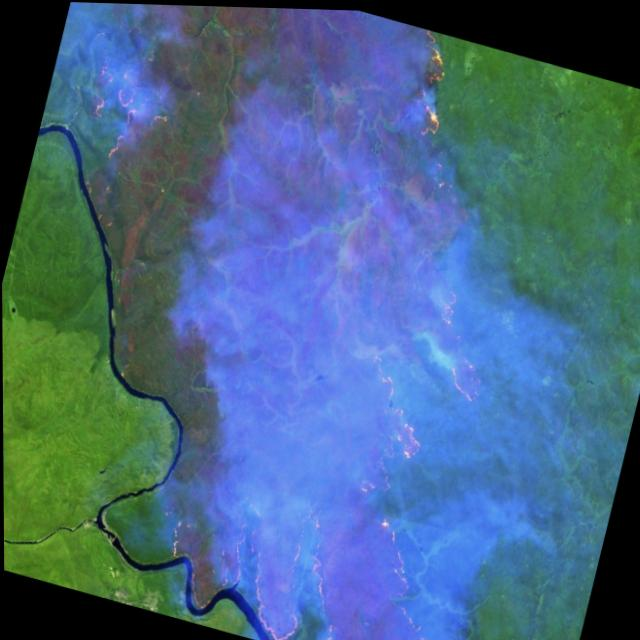fire: (132, 142, 558, 640), (371, 20, 497, 186)
